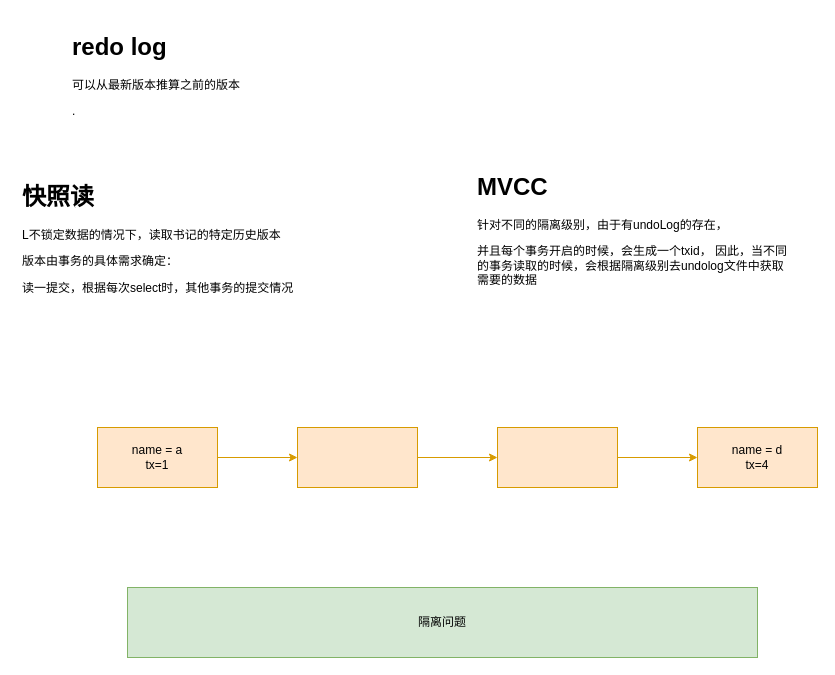
Image size: 835x675. Some labels were removed from this diagram. Here are the shapes that lost their labels. From the top down, the box of each, then its label:
(296, 426, 418, 488): name = b tx=2
(496, 426, 618, 488): name = c tx=3
